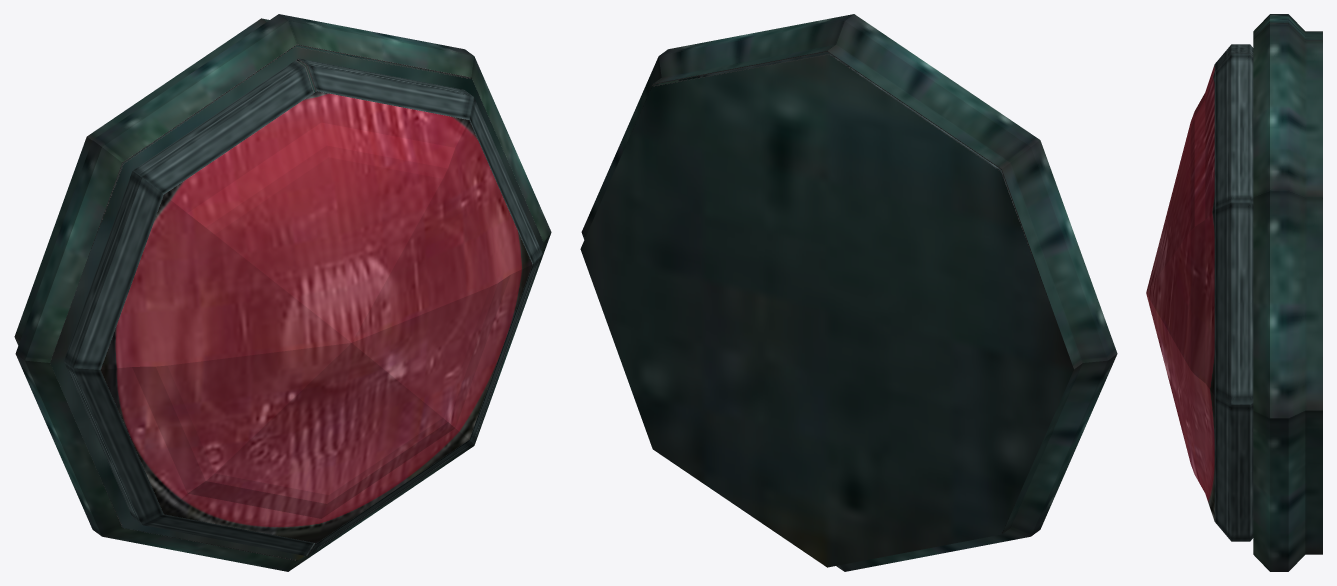
File: tail_light.fbx
The picture shows the model from 3 angles, left to right: view 1: azimuth 30°, elevation 25°; view 2: azimuth 150°, elevation 25°; view 3: azimuth 270°, elevation 25°; orthographic projection. The views are drawn at different scales.
Parts seen in each view (by area): view 1: Cylinder.001; view 2: Cylinder.001; view 3: Cylinder.001.
Part boxes in pixels (x1,y1,x2,y2): Cylinder.001: (14,14,551,571); Cylinder.001: (580,14,1117,571); Cylinder.001: (1146,14,1322,571).
Size of the model in its own units: 42.67 by 42.67 by 12.7.
Materials: 2 (2 with a texture image).
